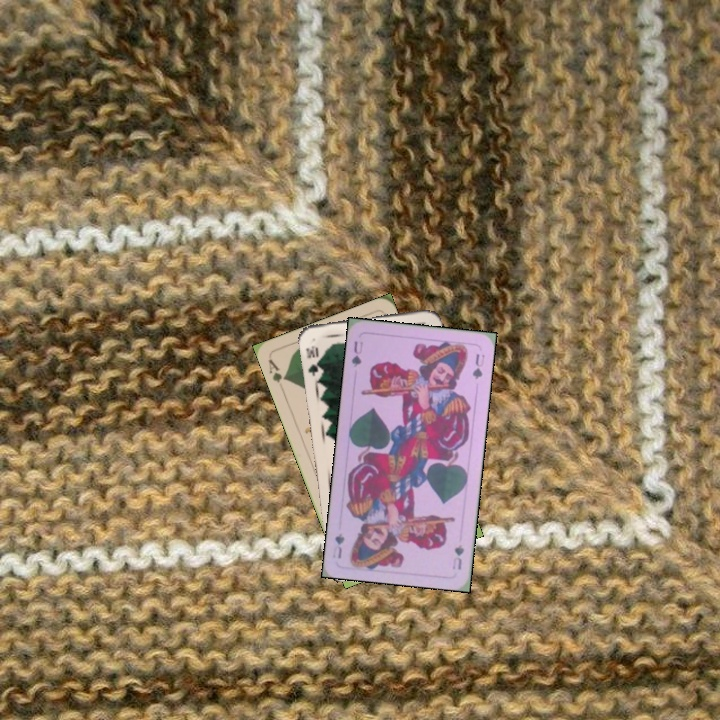G10: (302, 342, 324, 379)
GA: (264, 355, 289, 385)
GU: (347, 337, 365, 370), (448, 540, 466, 572)
